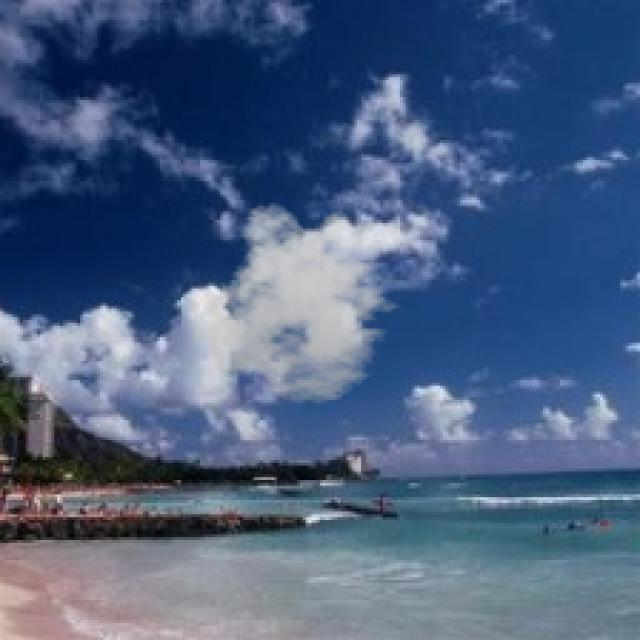Smoke: (192, 203, 412, 406)
